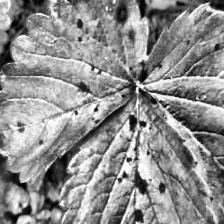Leaf Spot: (0, 0, 149, 184), (57, 85, 218, 224), (138, 1, 224, 224)
